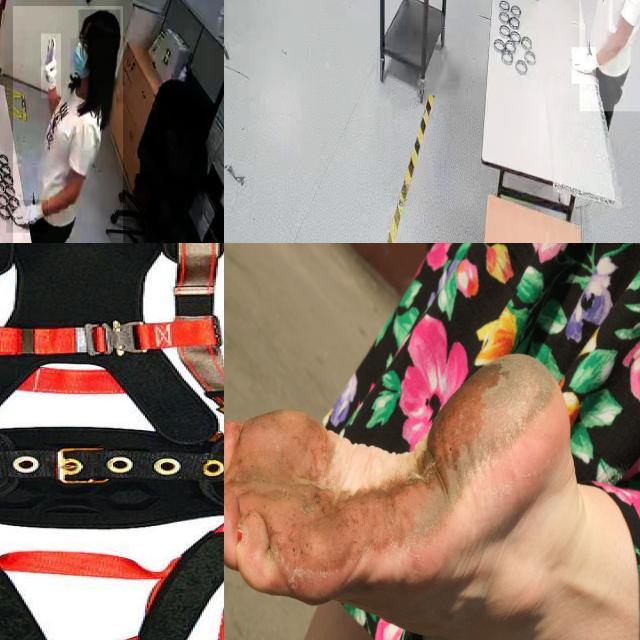Barefoots: (224, 352, 577, 604)
Harness: (0, 243, 224, 640)
face_mask: (70, 38, 94, 91)
hand_glove: (6, 200, 48, 233), (41, 34, 61, 98), (572, 47, 596, 85)
head_nohelmet: (78, 9, 120, 39)
person: (12, 6, 123, 243), (579, 0, 640, 112)
